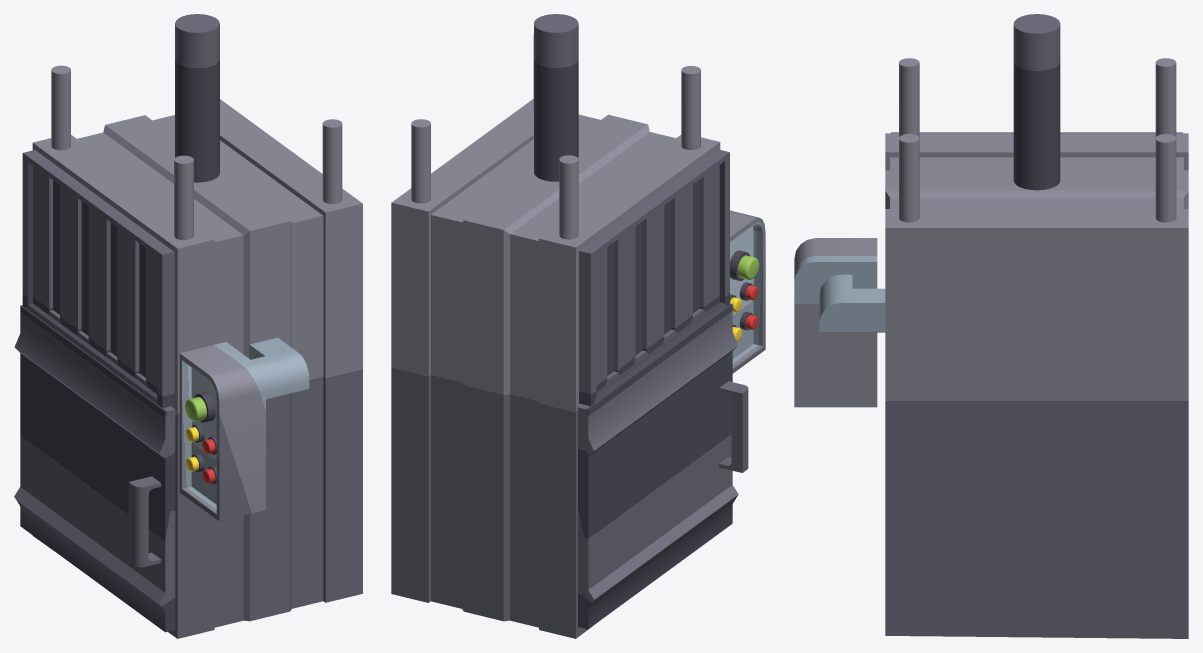
Rendered from maquinaFardo_Ng.fbx.
The picture shows the model from 3 angles, left to right: view 1: azimuth 30°, elevation 25°; view 2: azimuth 150°, elevation 25°; view 3: azimuth 270°, elevation 25°; orthographic projection. The views are drawn at different scales.
Visible parts, largest first — view 1: maquinaFardo_Ng, puerta_Ng, puerta_Ng1, aplanadora_Ng; view 2: maquinaFardo_Ng, puerta_Ng, puerta_Ng1, aplanadora_Ng; view 3: maquinaFardo_Ng, aplanadora_Ng.
Boxes of the visible parts, x1,y1,x2,y2 form: maquinaFardo_Ng: (32, 65, 362, 638); puerta_Ng: (14, 305, 175, 632); puerta_Ng1: (22, 150, 174, 408); aplanadora_Ng: (175, 14, 219, 182); maquinaFardo_Ng: (391, 33, 765, 638); puerta_Ng: (578, 303, 748, 629); puerta_Ng1: (579, 149, 729, 406); aplanadora_Ng: (534, 14, 578, 181); maquinaFardo_Ng: (794, 58, 1188, 638); aplanadora_Ng: (1013, 14, 1060, 190).
Size of the model in its own units: 251 by 589 by 371.
